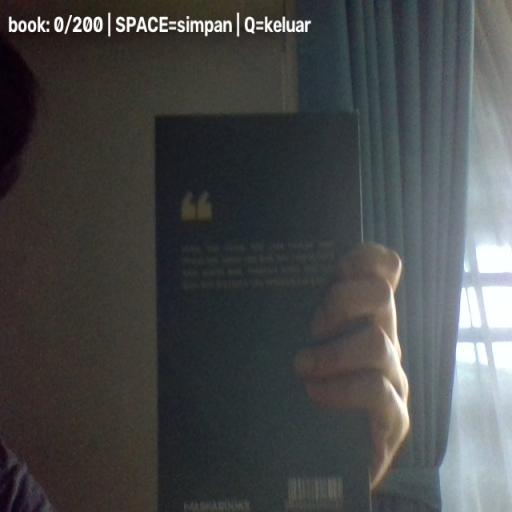Book: (154, 113, 372, 512)
